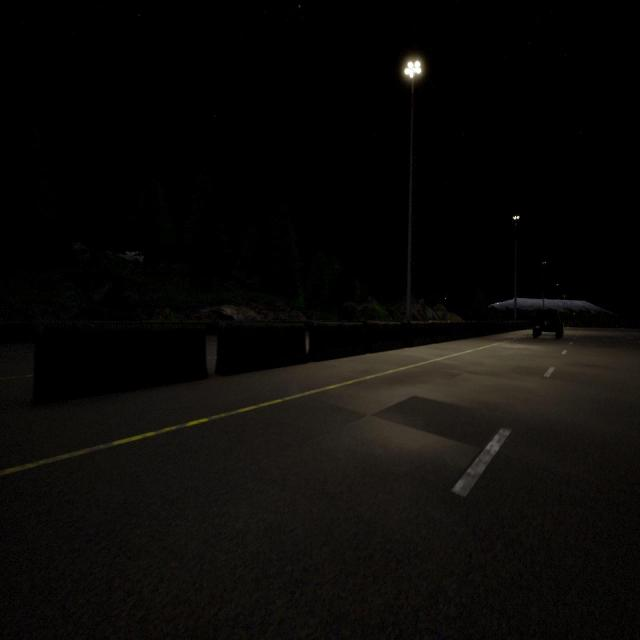Vehicle: (532, 307, 564, 339)
